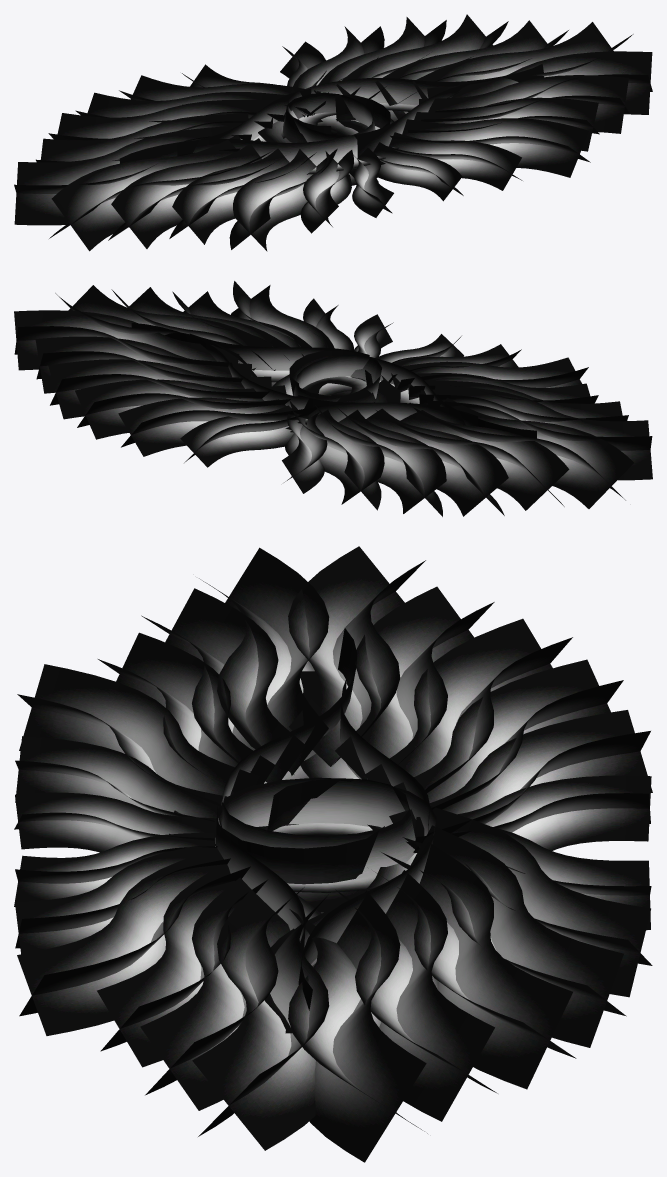
File: vfx_kurp_0257.dae
3 renders of one model, top to bottom at view 1: azimuth 30°, elevation 25°; view 2: azimuth 150°, elevation 25°; view 3: azimuth 270°, elevation 25°, orthographic. The views are drawn at different scales.
Parts seen in each view (by area): view 1: vfx_kurp_0257; view 2: vfx_kurp_0257; view 3: vfx_kurp_0257.
Part boxes in pixels (bbox=[...]): vfx_kurp_0257: bbox=[14, 14, 652, 251]; vfx_kurp_0257: bbox=[14, 281, 652, 516]; vfx_kurp_0257: bbox=[14, 546, 652, 1162].
Size of the model in its own units: 11.06 by 5.49 by 0.8091.
Materials: 1 (1 with a texture image).
